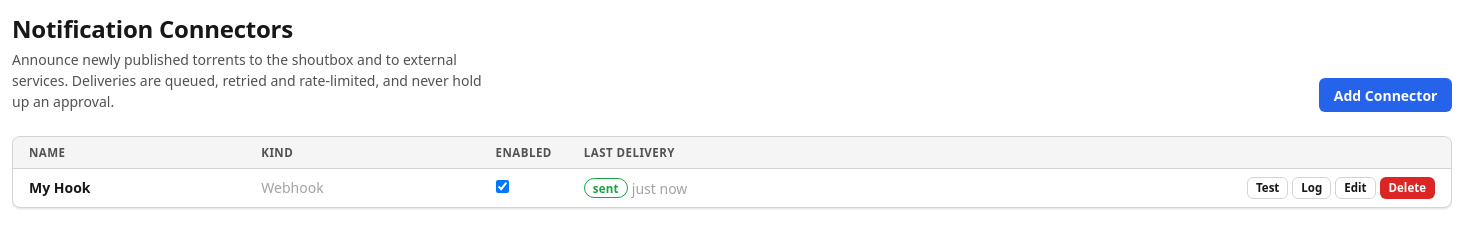
it: AdminConnectorsPage › a failed test send surfaces the reason
What coordinates should you click on to do the following:
click the button "Test"
I would click on:
 (1268, 188)
Its box is [1247,177,1288,199].
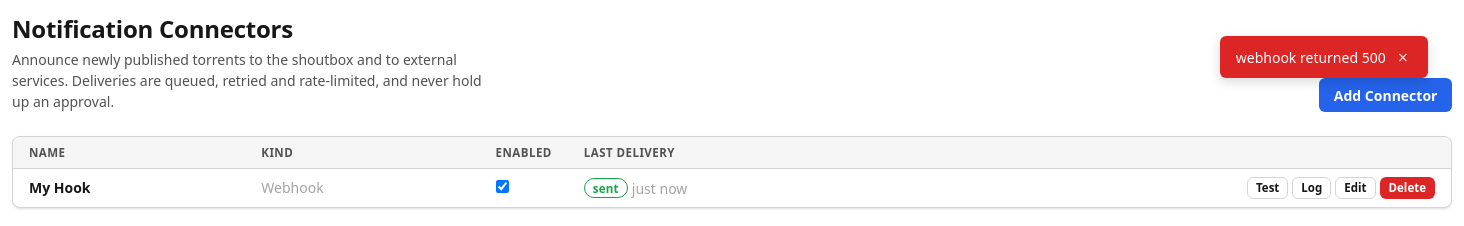
expect the text "webhook returned 500" is shown: met, box [1236,48,1386,66]
